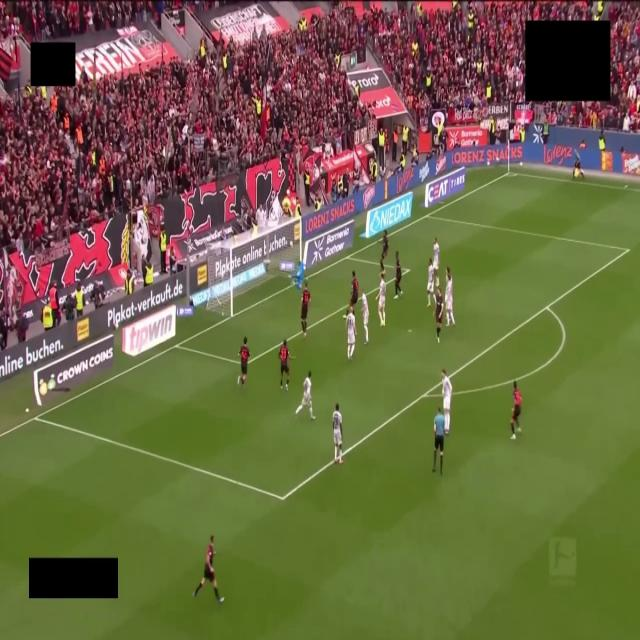ball: (290, 241, 292, 247)
player: (193, 536, 223, 603), (296, 371, 315, 420), (279, 340, 292, 391), (442, 369, 452, 435), (332, 404, 342, 463), (511, 382, 521, 439), (238, 337, 250, 384), (434, 287, 444, 343), (445, 267, 454, 326), (346, 306, 356, 359), (301, 281, 310, 337), (377, 272, 385, 327), (432, 237, 440, 287), (427, 258, 434, 306), (395, 252, 402, 299), (380, 231, 388, 270), (362, 293, 368, 344), (292, 262, 303, 289), (350, 271, 358, 308), (350, 271, 358, 307)
referee: (432, 408, 445, 475)
